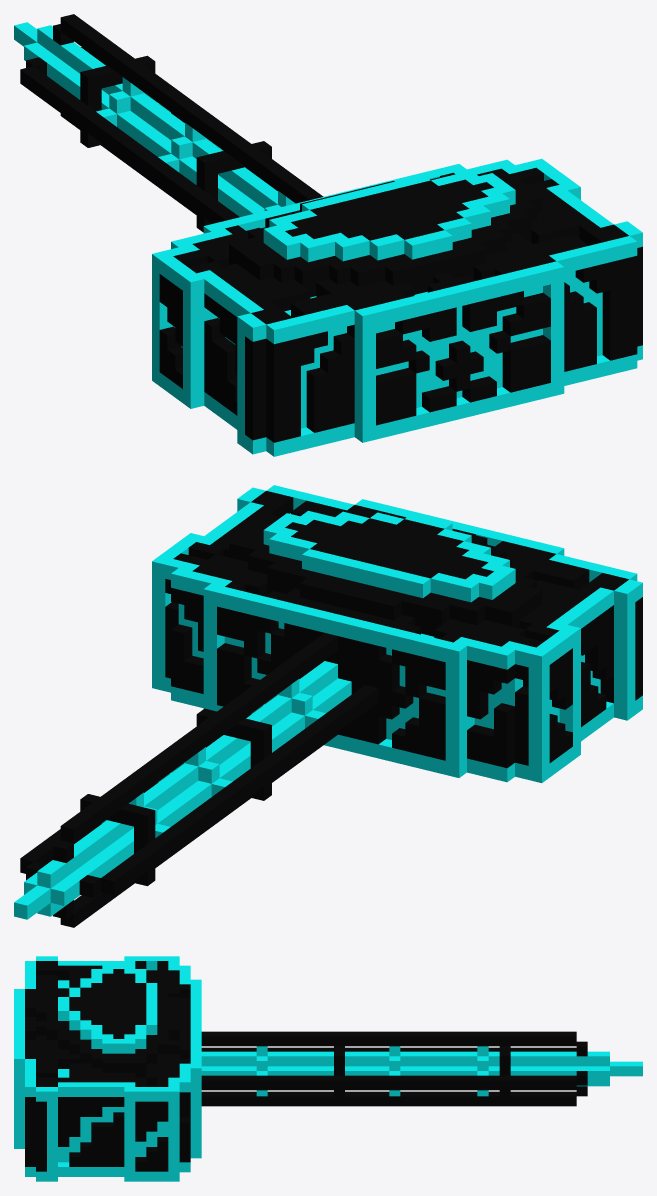
File: MegaPlasmaCurveGunTurret.FBX
3 renders of one model, top to bottom at view 1: azimuth 30°, elevation 25°; view 2: azimuth 150°, elevation 25°; view 3: azimuth 270°, elevation 25°, orthographic. The views are drawn at different scales.
Visible parts, largest first — view 1: MegaPlasmaCurveGunTurret; view 2: MegaPlasmaCurveGunTurret; view 3: MegaPlasmaCurveGunTurret.
Part boxes in pixels (x1=…): MegaPlasmaCurveGunTurret: x1=14, y1=14, x2=642, y2=456; MegaPlasmaCurveGunTurret: x1=14, y1=485, x2=642, y2=927; MegaPlasmaCurveGunTurret: x1=14, y1=956, x2=642, y2=1181.
Bounding box in the file's own units: 29 × 57 × 11.
